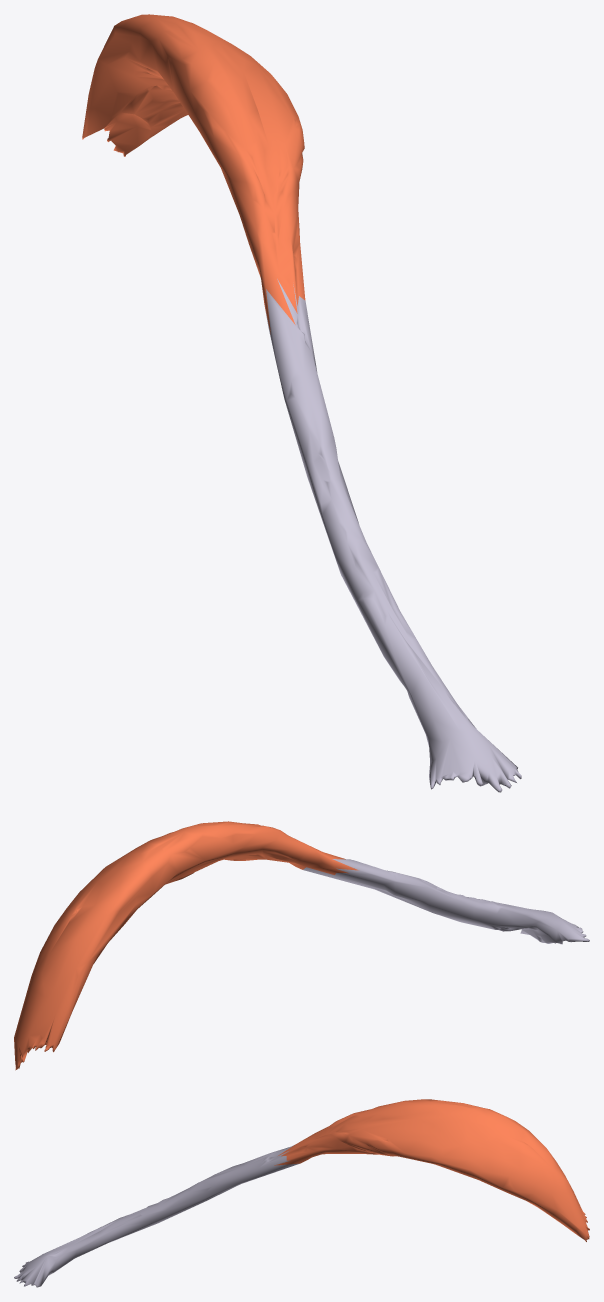
File: Extensor_hallucis_brevis.l_Generated_Mesh_From_X3D.970.glb
3 renders of one model, top to bottom at view 1: azimuth 30°, elevation 25°; view 2: azimuth 150°, elevation 25°; view 3: azimuth 270°, elevation 25°, orthographic. The views are drawn at different scales.
Visible parts, largest first — view 1: Extensor_hallucis_brevis.l_Generated_Mesh_From_X3D.970; view 2: Extensor_hallucis_brevis.l_Generated_Mesh_From_X3D.970; view 3: Extensor_hallucis_brevis.l_Generated_Mesh_From_X3D.970.
Part boxes in pixels (bbox=[...]): Extensor_hallucis_brevis.l_Generated_Mesh_From_X3D.970: bbox=[82, 14, 521, 792]; Extensor_hallucis_brevis.l_Generated_Mesh_From_X3D.970: bbox=[14, 821, 589, 1070]; Extensor_hallucis_brevis.l_Generated_Mesh_From_X3D.970: bbox=[14, 1099, 589, 1287].
Bounding box in the file's own units: 0.0338 × 0.0479 × 0.1218.
